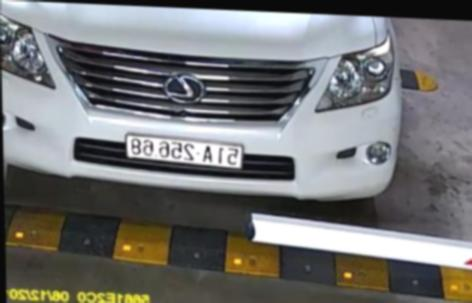License_Plate: (123, 132, 246, 170)
